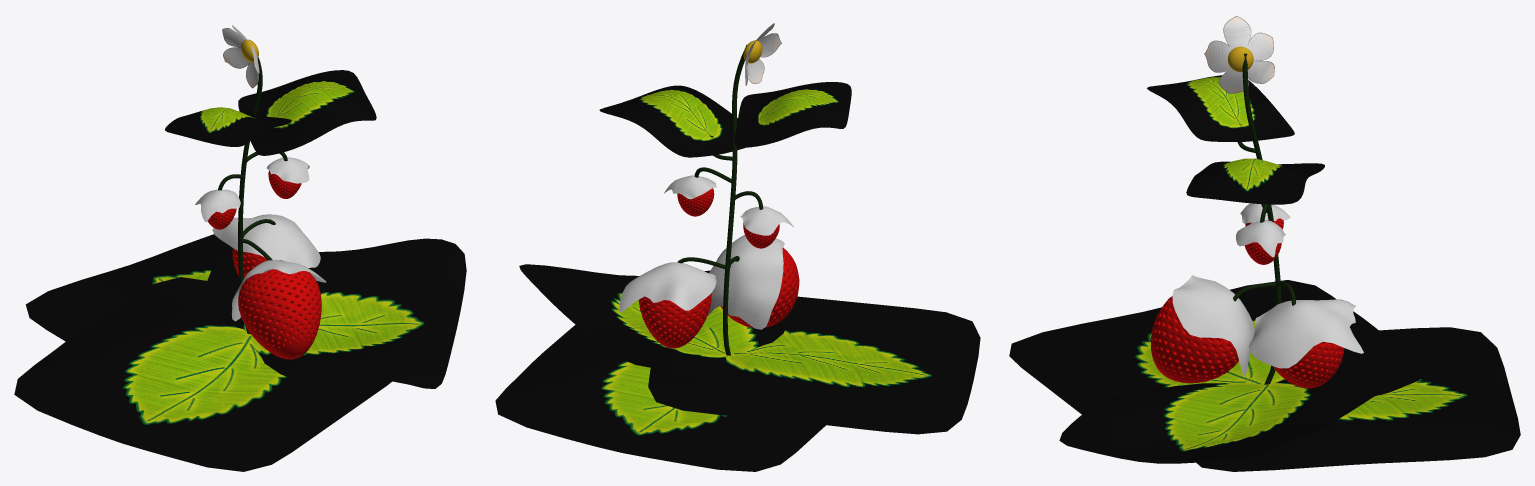
File: strawberry.obj
The picture shows the model from 3 angles, left to right: view 1: azimuth 30°, elevation 25°; view 2: azimuth 150°, elevation 25°; view 3: azimuth 270°, elevation 25°; orthographic projection. The views are drawn at different scales.
Parts seen in each view (by area): view 1: BezierCurve.005; view 2: BezierCurve.005; view 3: BezierCurve.005.
Boxes of the visible parts, x1,y1,x2,y2 form: BezierCurve.005: (14,25,466,471); BezierCurve.005: (495,23,980,471); BezierCurve.005: (1009,16,1520,471).
Size of the model in its own units: 1.55 by 1.2 by 1.46.
